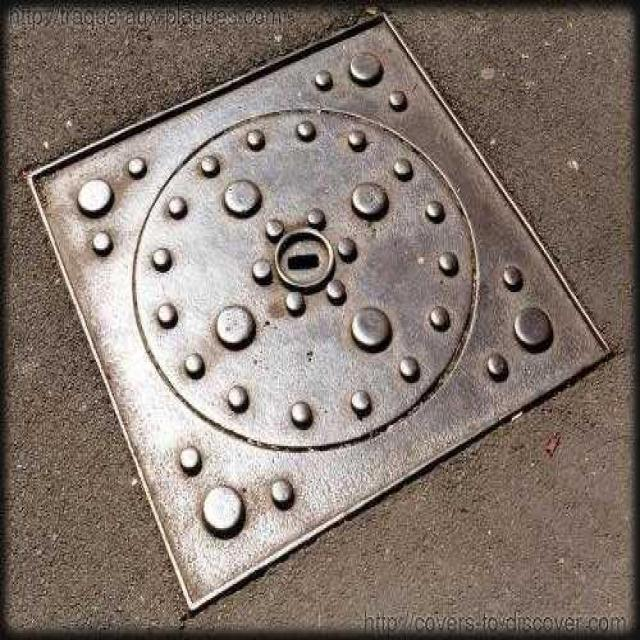manhole: (135, 113, 473, 448)
